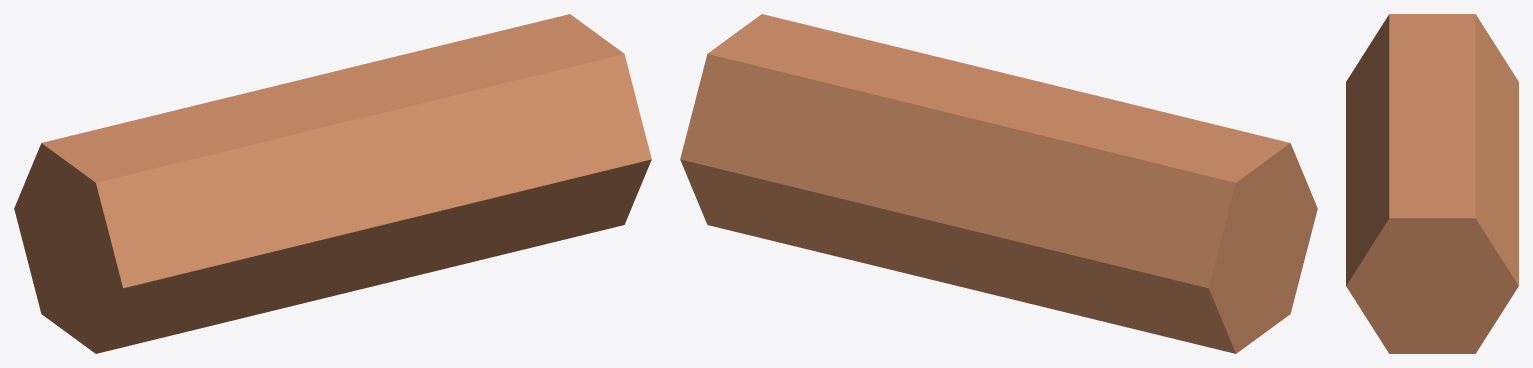
The model's file is rollingBody.obj.
The picture shows the model from 3 angles, left to right: view 1: azimuth 30°, elevation 25°; view 2: azimuth 150°, elevation 25°; view 3: azimuth 270°, elevation 25°; orthographic projection. The views are drawn at different scales.
Visible parts, largest first — view 1: rollingPin; view 2: rollingPin; view 3: rollingPin.
Part boxes in pixels (left/top/right/bottom): rollingPin: left=14, top=14, right=651, bottom=353; rollingPin: left=680, top=14, right=1317, bottom=353; rollingPin: left=1346, top=14, right=1518, bottom=353.
Bounding box in the file's own units: 0.2268 × 0.0701 × 0.081.
